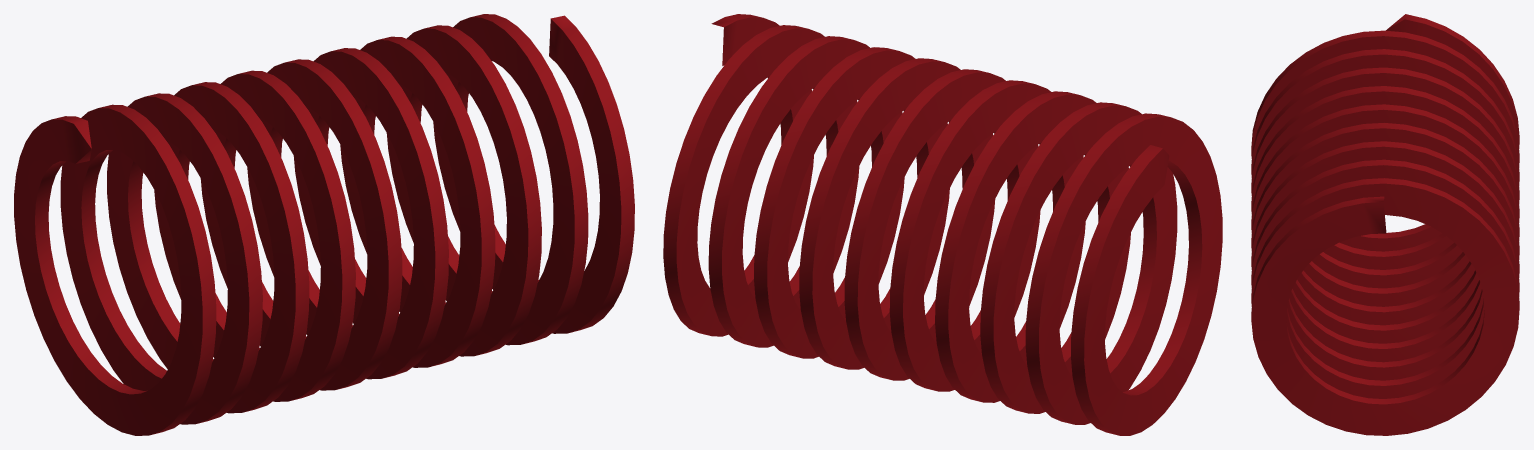
The picture shows the model from 3 angles, left to right: view 1: azimuth 30°, elevation 25°; view 2: azimuth 150°, elevation 25°; view 3: azimuth 270°, elevation 25°; orthographic projection. The views are drawn at different scales.
Visible parts, largest first — view 1: coil-spring-merah; view 2: coil-spring-merah; view 3: coil-spring-merah.
Boxes of the visible parts, box(x1,y1,x2,y2) form: coil-spring-merah: box(14, 14, 634, 435); coil-spring-merah: box(663, 14, 1222, 435); coil-spring-merah: box(1251, 14, 1519, 435).
Bounding box in the file's own units: 0.6673 × 0.3999 × 0.3999.
